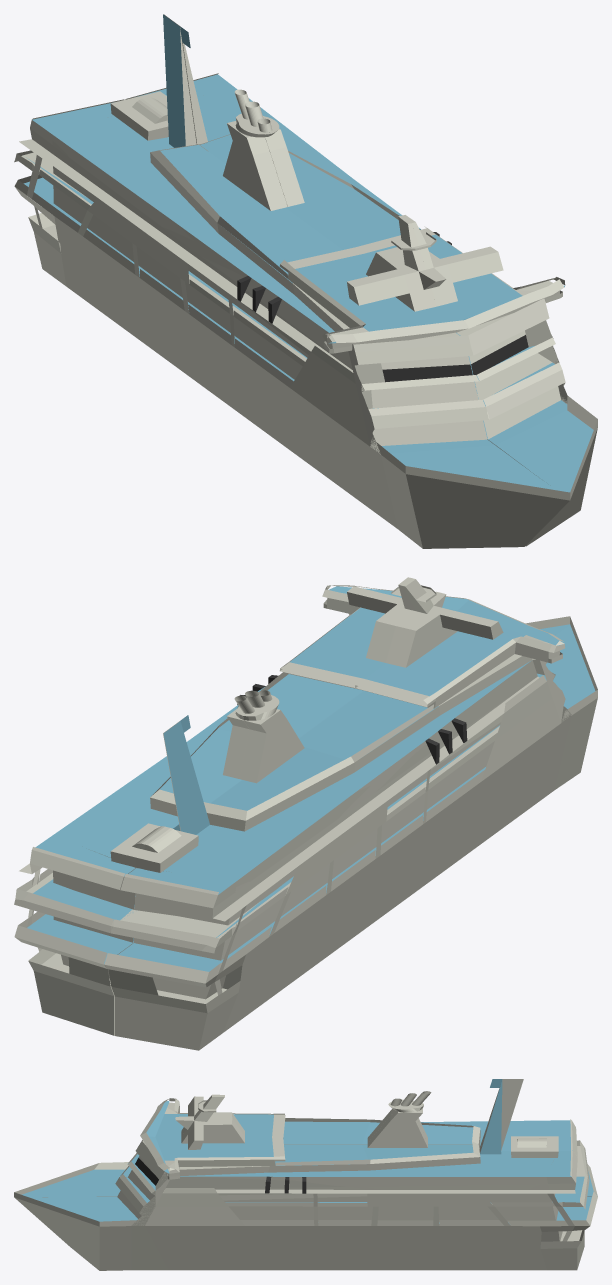
File: sadokisen20bx.fbx
The picture shows the model from 3 angles, top to bottom: view 1: azimuth 30°, elevation 25°; view 2: azimuth 150°, elevation 25°; view 3: azimuth 270°, elevation 25°; orthographic projection. The views are drawn at different scales.
Visible parts, largest first — view 1: Cube; view 2: Cube; view 3: Cube.
Part boxes in pixels (left/top/right/bottom): Cube: left=14, top=14, right=597, bottom=548; Cube: left=14, top=577, right=597, bottom=1050; Cube: left=14, top=1079, right=597, bottom=1270.
Size of the model in its own units: 250 by 269 by 847.
